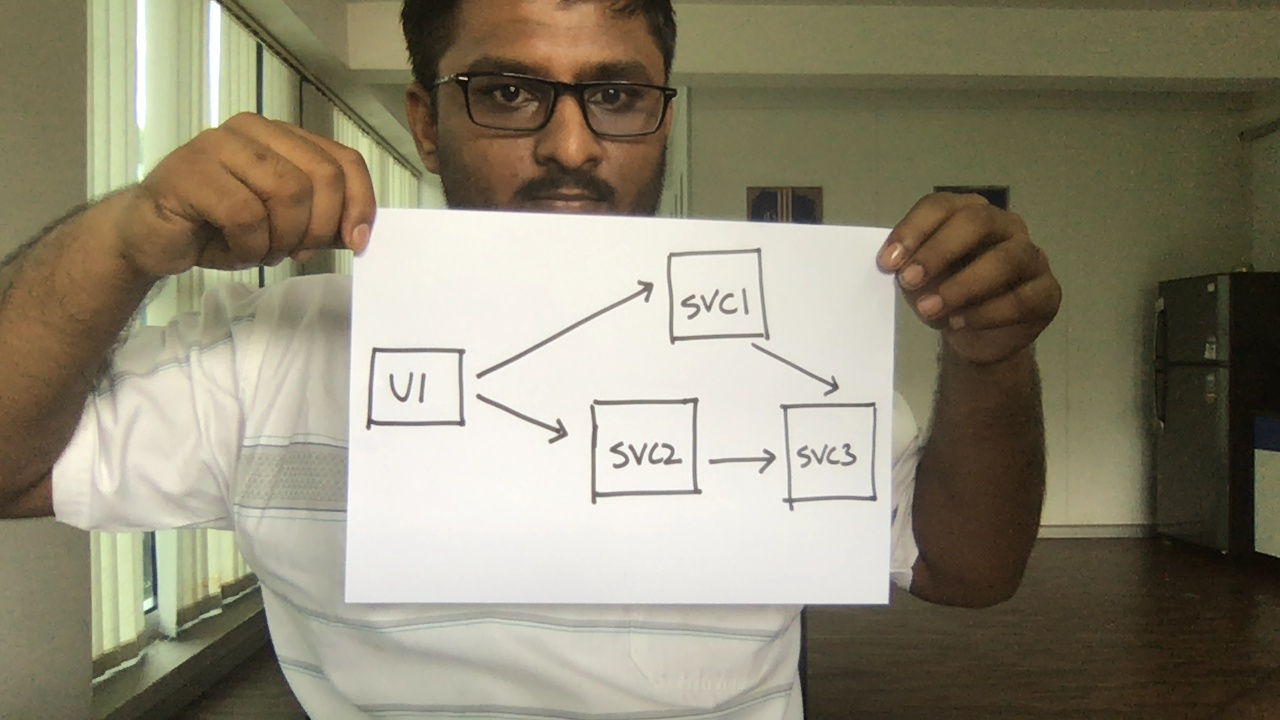arrow: (470, 275, 664, 382), (470, 389, 580, 453), (747, 338, 847, 403), (704, 440, 782, 484)
ec2: (588, 394, 704, 504), (780, 401, 882, 508), (665, 246, 771, 344)
ui: (365, 343, 469, 433)
